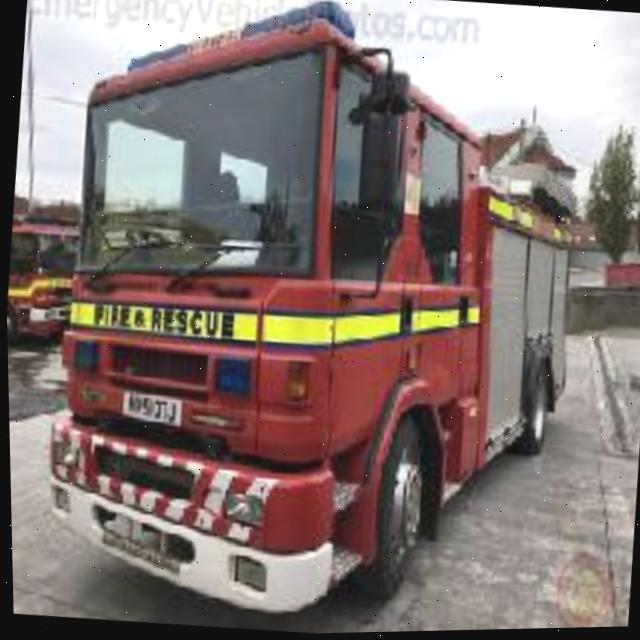emergency: (27, 0, 603, 640)
